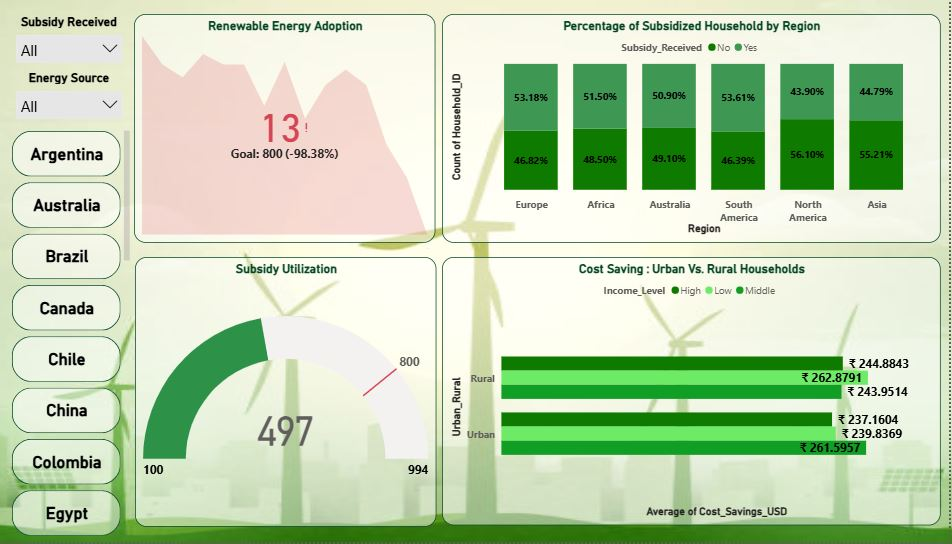

Layout of this report page (visuals, bound fields, positions):
{"tool":"powerbi","page":{"name":"URBAN & RURAL / HOUSEHOLDS","canvas":[1305,750],"ordinal":3},"visuals":[{"type":"advancedSlicerVisual","fields":{"Values":["Renewable_Energy_Usage_Sampled.Country"]},"box":[22.4,183.6,171.6,565.7],"z":0},{"type":"kpi","title":"Renewable Energy Adoption ","fields":{"TrendLine":["Renewable_Energy_Usage_Sampled.Adoption_Year"],"Goal":["Key Measures.Adoption Target"],"Indicator":["Key Measures.Household adopting Renewable Energy"]},"box":[193.5,30,411,312],"z":2000},{"type":"gauge","title":"Subsidy Utilization","fields":{"Y":["Key Measures.Households_Receiving_Subsidies"],"MinValue":["Key Measures.Min_Household_subsidies"],"TargetValue":["Key Measures.Max_Household_subsidies"]},"box":[195,361.5,411,367.5],"z":3000},{"type":"hundredPercentStackedColumnChart","title":"Percentage of Subsidized Household by Region","fields":{"Category":["Renewable_Energy_Usage_Sampled.Region"],"Y":["CountNonNull(Renewable_Energy_Usage_Sampled.Household_ID)"],"Series":["Renewable_Energy_Usage_Sampled.Subsidy_Received"]},"box":[613.5,30,679.5,312],"z":8000},{"type":"slicer","title":"Subsidy Received","fields":{"Values":["Renewable_Energy_Usage_Sampled.Subsidy_Received"]},"box":[22.5,30,163.5,66],"z":9000},{"type":"slicer","title":"Energy Source","fields":{"Values":["Renewable_Energy_Usage_Sampled.Energy_Source"]},"box":[22.5,106.5,163.5,66],"z":10000},{"type":"clusteredBarChart","title":"Cost Saving : Urban Vs. Rural Households","fields":{"Series":["Renewable_Energy_Usage_Sampled.Income_Level"],"Category":["Renewable_Energy_Usage_Sampled.Urban_Rural"],"Y":["Avg(Renewable_Energy_Usage_Sampled.Cost_Savings_USD)"]},"box":[613.5,361.5,679.5,366],"z":11000}]}

Visuals, with their boxes in screenshot pixels (x1, y1, x2, y2), scaled from the page's 1305x750 canvas onto the 952x544 screenshot:
advancedSlicerVisual - Renewable_Energy_Usage_Sampled.Country: l=16, t=133, r=142, b=543
"Renewable Energy Adoption " kpi: l=141, t=22, r=441, b=248
"Subsidy Utilization" gauge: l=142, t=262, r=442, b=529
"Percentage of Subsidized Household by Region" hundredPercentStackedColumnChart: l=448, t=22, r=943, b=248
"Subsidy Received" slicer: l=16, t=22, r=136, b=70
"Energy Source" slicer: l=16, t=77, r=136, b=125
"Cost Saving : Urban Vs. Rural Households" clusteredBarChart: l=448, t=262, r=943, b=528
